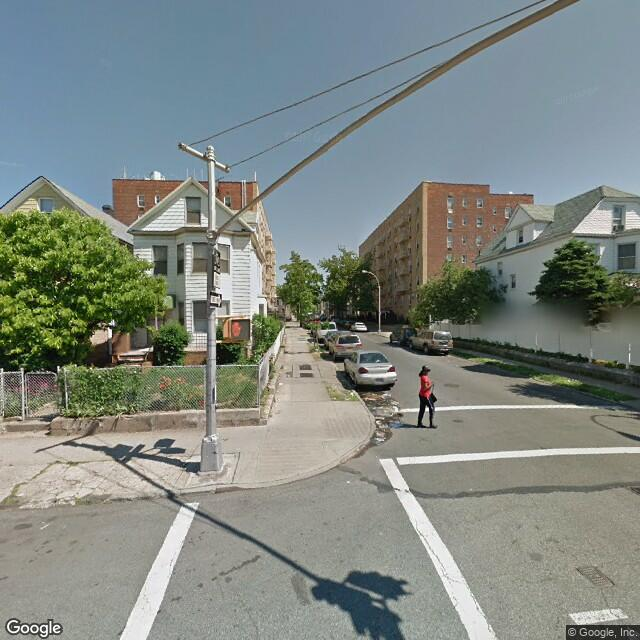litter: (367, 396, 403, 443)
